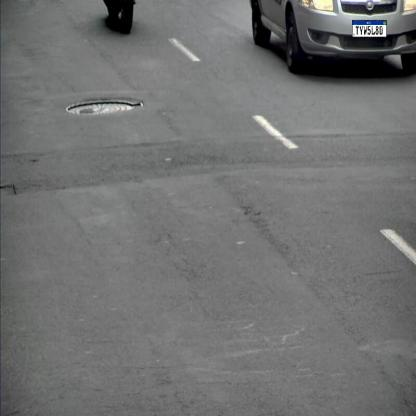PlacaM: (352, 20, 387, 38)
